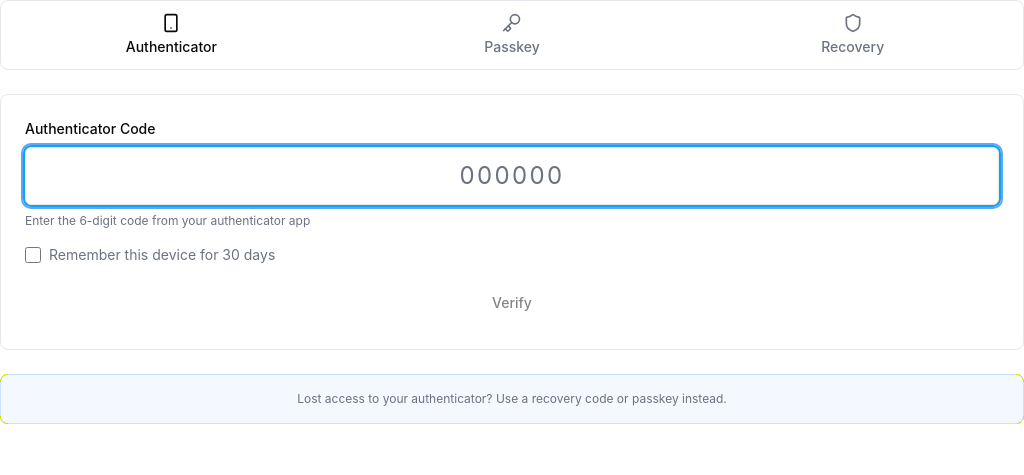
Test case: TwoFactorVerification › WebAuthn Verification › should handle WebAuthn authentication cancellation
This screenshot has width=1024, height=475.
Click the button "Passkey" at [512, 35], box [346,5,678,65]
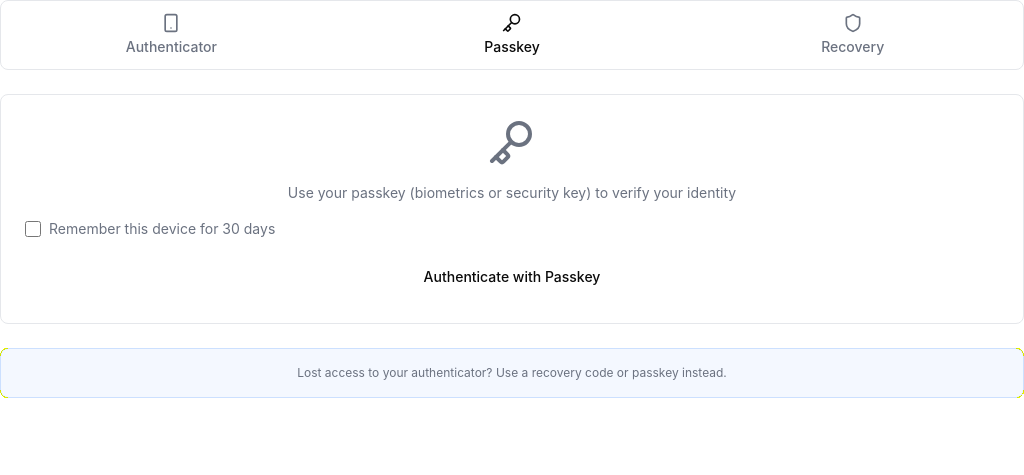
Click the button "Authenticate with Passkey" at [512, 277], box [25,255,999,299]
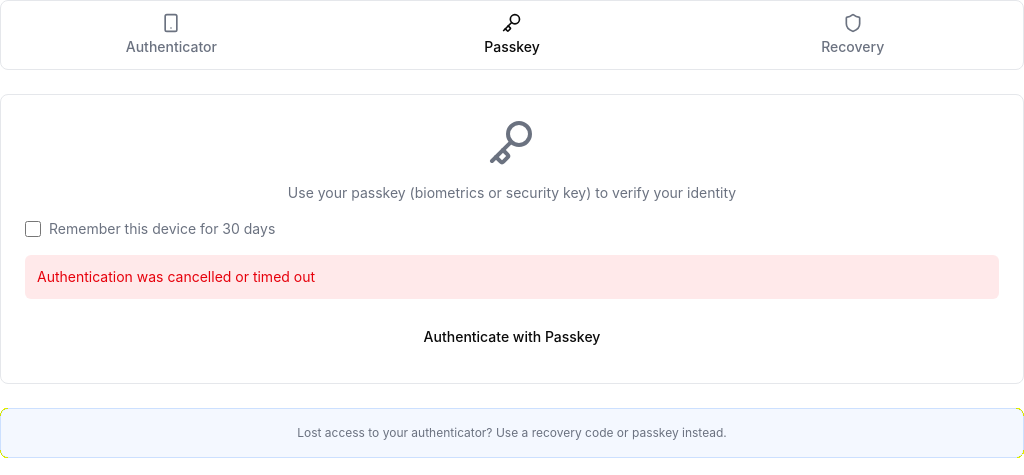
Expected: the text "Authentication was cancelled or timed out" is shown, [25,255,999,299]
